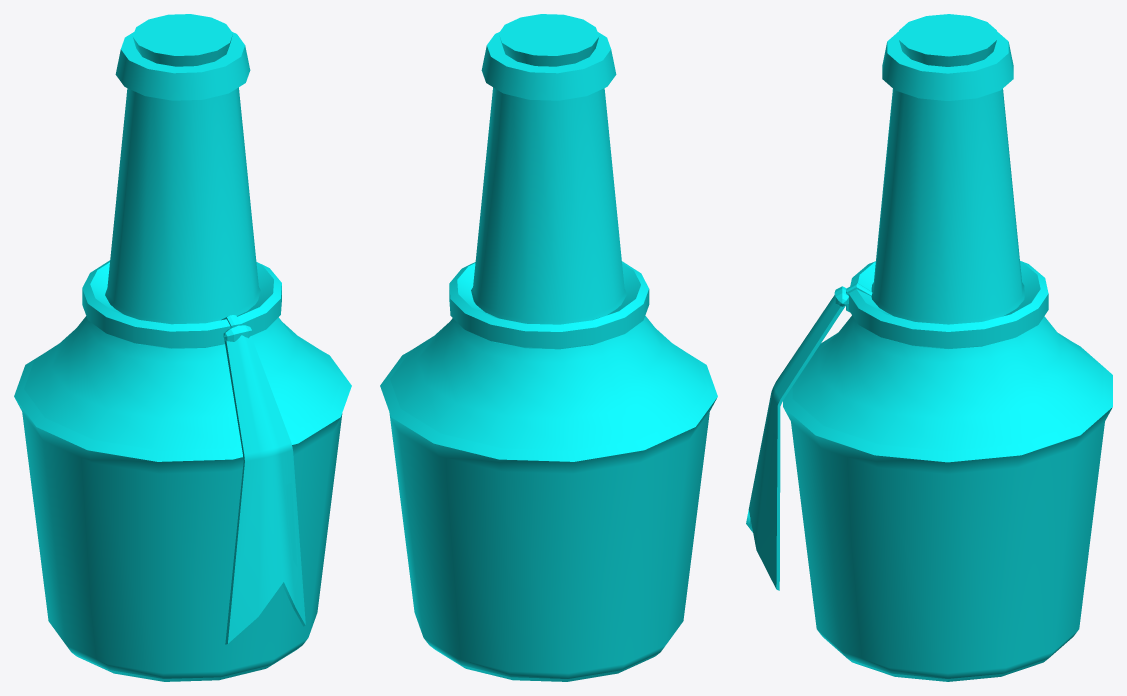
3 views of the same model, side by side, from view 1: azimuth 30°, elevation 25°; view 2: azimuth 150°, elevation 25°; view 3: azimuth 270°, elevation 25° (orthographic).
Visible parts, largest first — view 1: polySurface22; view 2: polySurface22; view 3: polySurface22.
Part boxes in pixels (bbox=[...]): polySurface22: bbox=[14, 14, 351, 681]; polySurface22: bbox=[380, 14, 717, 681]; polySurface22: bbox=[746, 14, 1112, 681].
Size of the model in its own units: 1.03 by 2 by 1.12.
